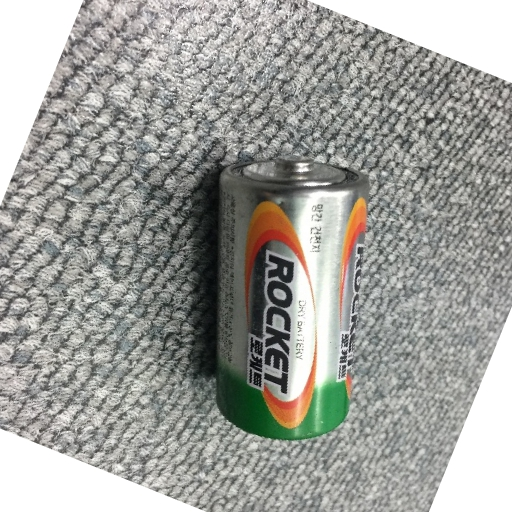Battery_0: (202, 142, 367, 445)
